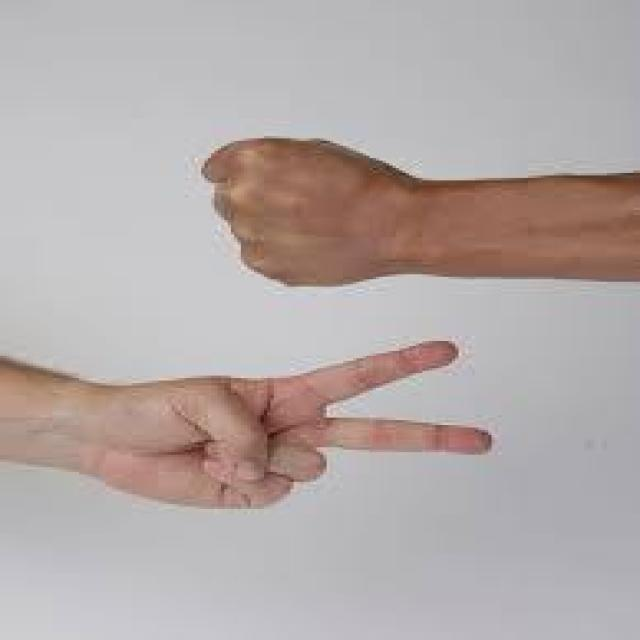rock: (158, 113, 524, 312)
scirssors: (92, 337, 561, 547)
